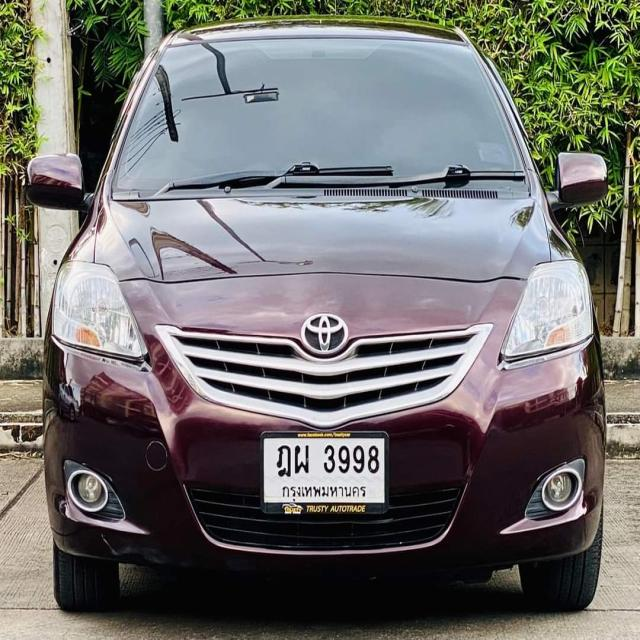license_plate: (258, 430, 388, 516)
